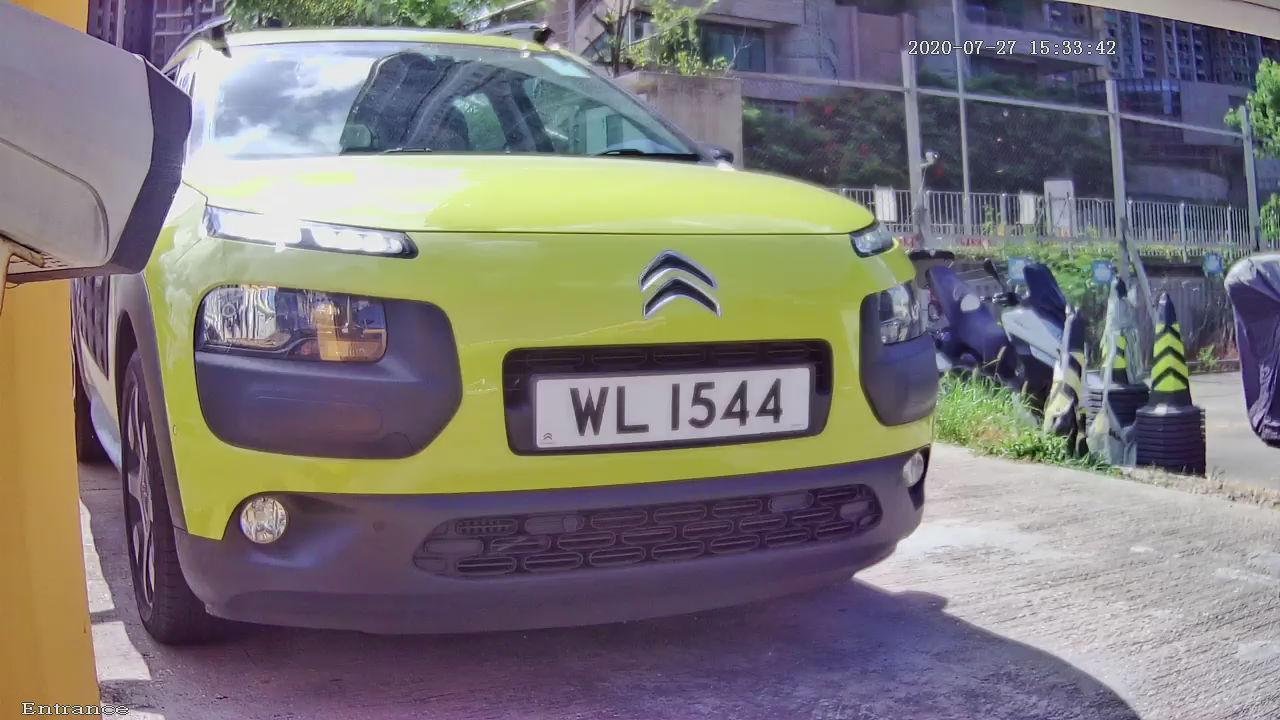privatecar: (46, 13, 1001, 682)
